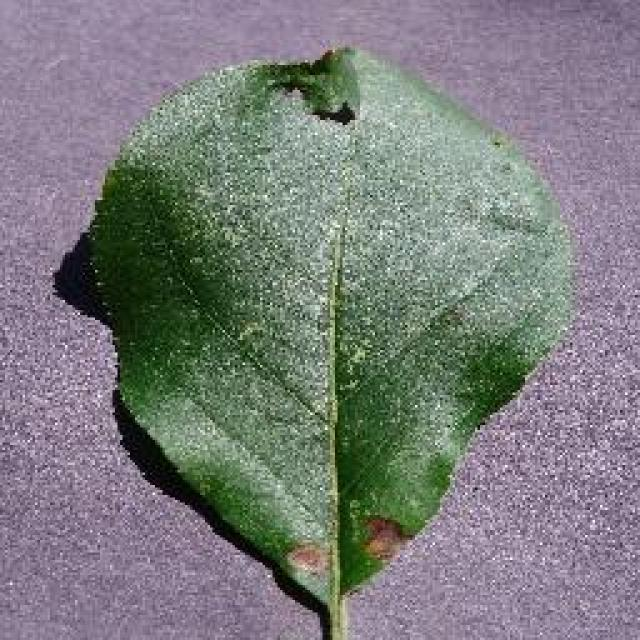apple scab disease: (75, 42, 577, 638)
